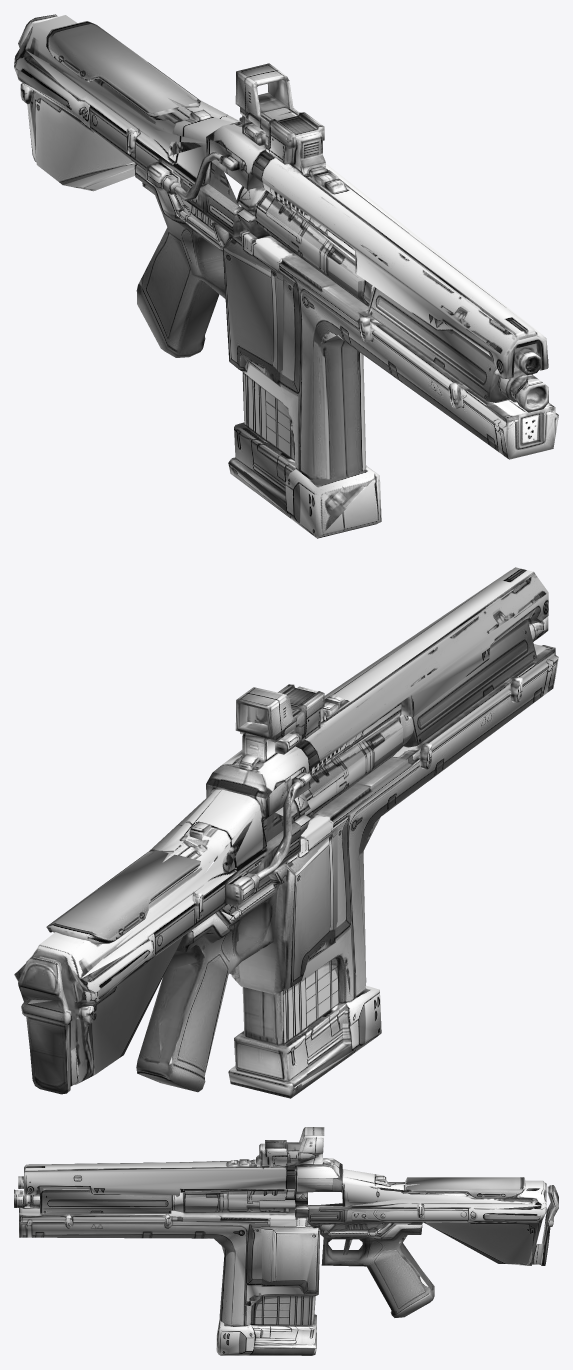
3 views of the same model, one above another, from view 1: azimuth 30°, elevation 25°; view 2: azimuth 150°, elevation 25°; view 3: azimuth 270°, elevation 25° (orthographic). The views are drawn at different scales.
Parts seen in each view (by area): view 1: gun; view 2: gun; view 3: gun.
Boxes of the visible parts, x1,y1,x2,y2 form: gun: (14, 14, 558, 538); gun: (14, 567, 558, 1098); gun: (14, 1127, 558, 1355).
Bounding box in the file's own units: 0.2679 × 1.14 × 2.6.
Materials: 3 (3 with a texture image).
